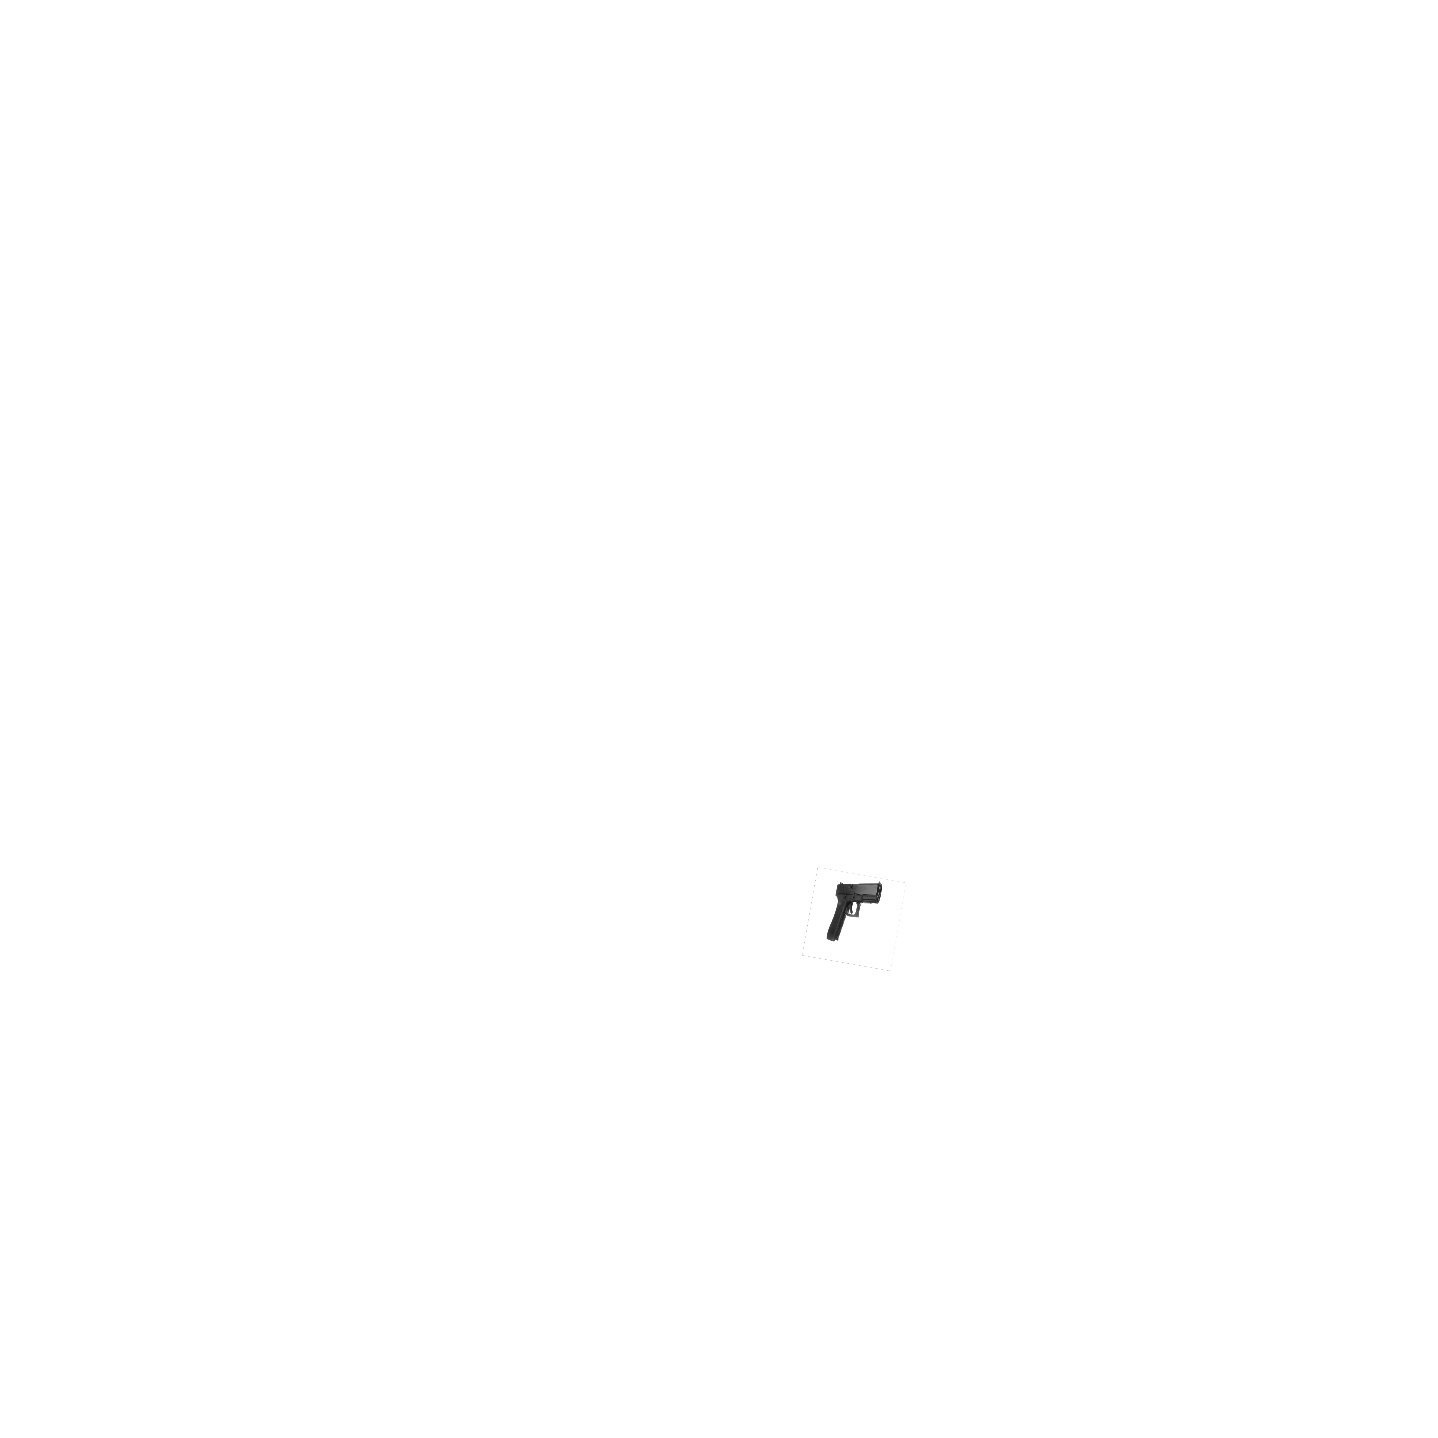gun: (827, 882, 884, 942)
